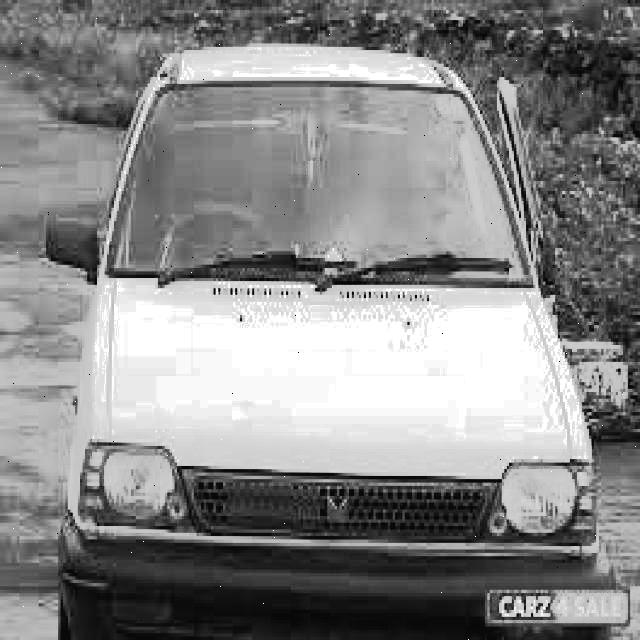Car: (49, 55, 606, 583)
